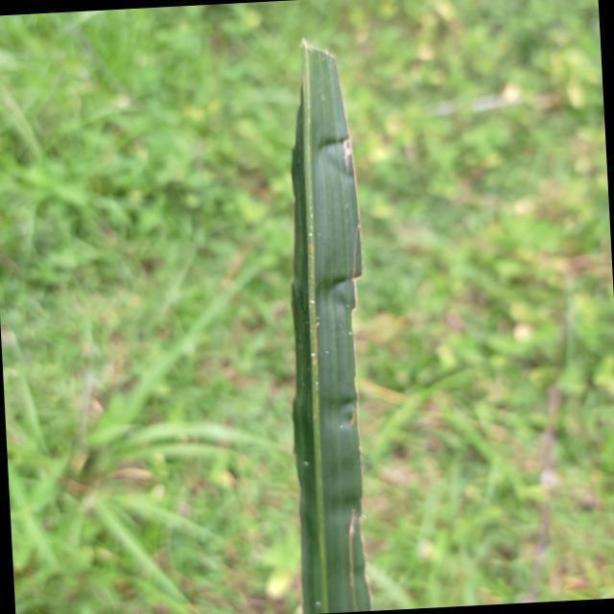Boron: (288, 35, 366, 614)
